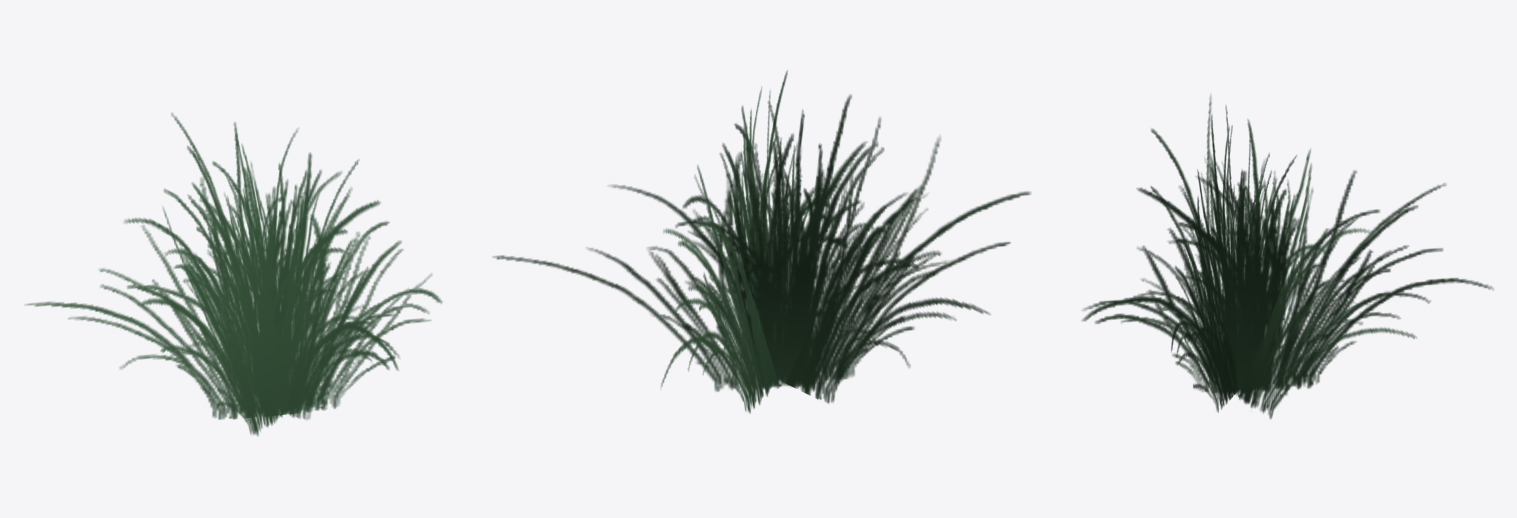
The model's file is grass_small2.glb.
3 views of the same model, side by side, from view 1: azimuth 30°, elevation 25°; view 2: azimuth 150°, elevation 25°; view 3: azimuth 270°, elevation 25° (orthographic). The views are drawn at different scales.
Parts seen in each view (by area): view 1: Grass small 2; view 2: Grass small 2; view 3: Grass small 2.
Part boxes in pixels (left/top/right/bottom): Grass small 2: left=25, top=113, right=442, bottom=436; Grass small 2: left=493, top=70, right=1030, bottom=413; Grass small 2: left=1082, top=95, right=1493, bottom=418.
Size of the model in its own units: 0.2847 by 0.2041 by 0.2576.
1 material, 1 textured.
